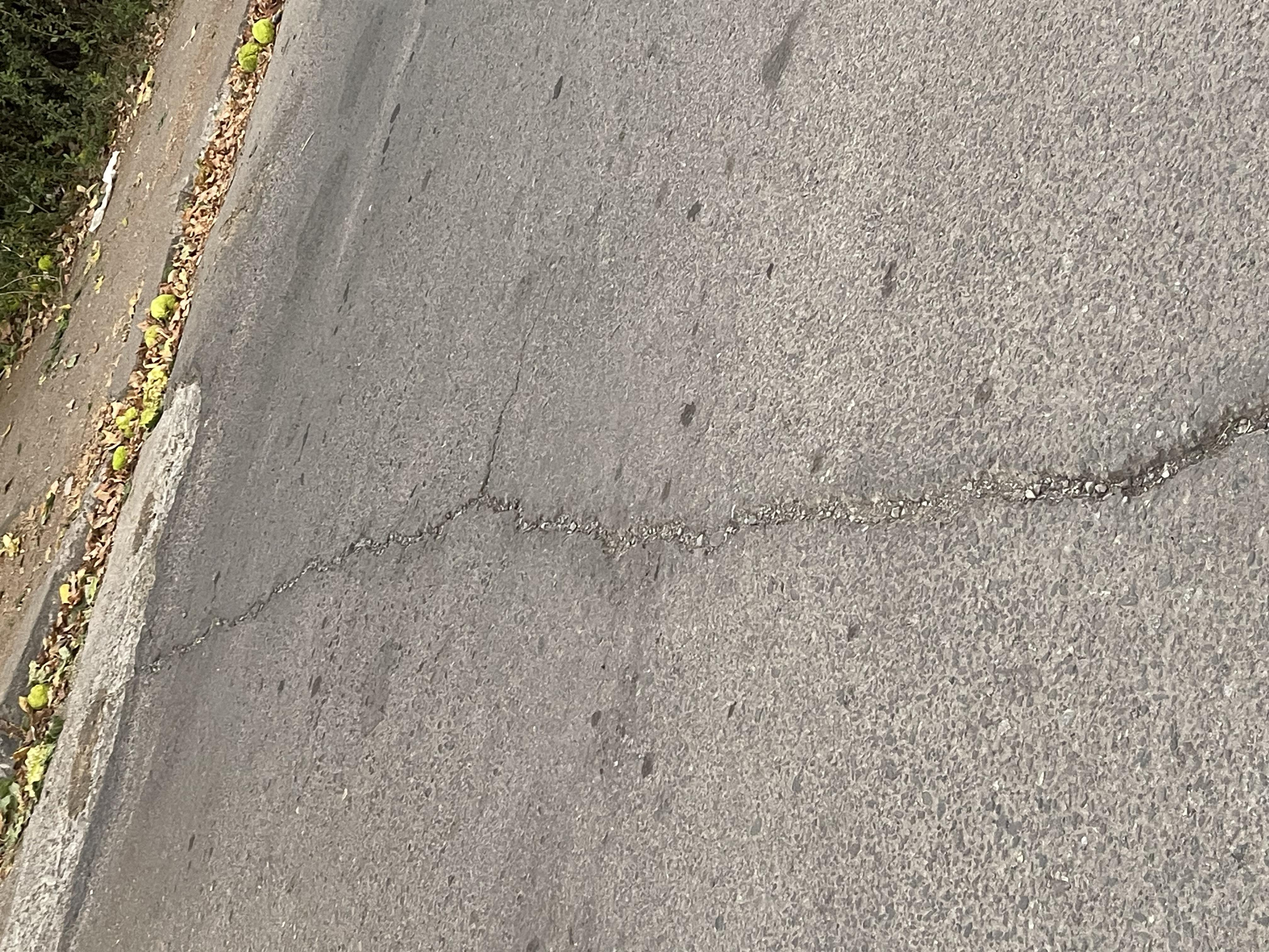GRIETA: (347, 403, 1269, 554), (136, 553, 350, 674), (478, 319, 535, 497)
